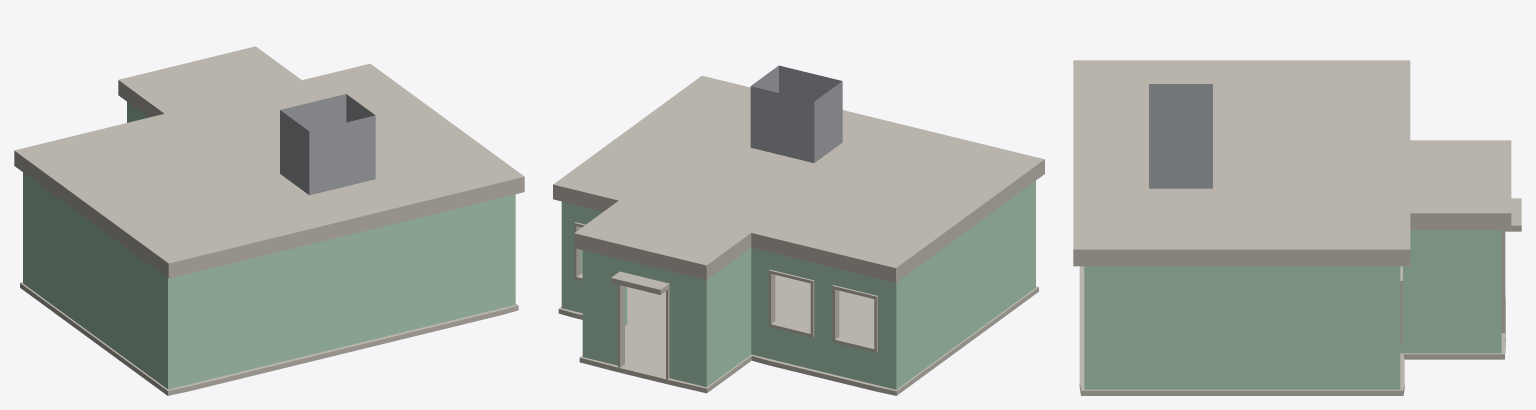
Rendered from Bld_R_high_L1_C.fbx.
3 views of the same model, side by side, from view 1: azimuth 30°, elevation 25°; view 2: azimuth 150°, elevation 25°; view 3: azimuth 270°, elevation 25° (orthographic). The views are drawn at different scales.
Visible parts, largest first — view 1: Bld_R_high_L1_C_LOD0; view 2: Bld_R_high_L1_C_LOD0; view 3: Bld_R_high_L1_C_LOD0.
Part boxes in pixels (x1,y1,x2,y2): Bld_R_high_L1_C_LOD0: (14,46,524,395); Bld_R_high_L1_C_LOD0: (553,65,1044,395); Bld_R_high_L1_C_LOD0: (1073,60,1521,395).
Size of what is drawn, in the model's own units: 1400 by 1070 by 1400.
Materials: 1 (1 with a texture image).
